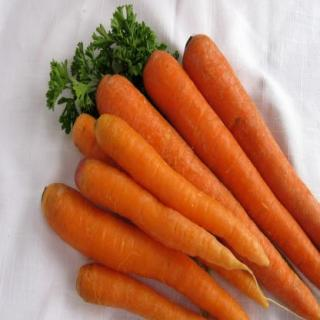Wortel: (143, 51, 320, 288), (43, 184, 252, 320), (77, 159, 241, 273)
